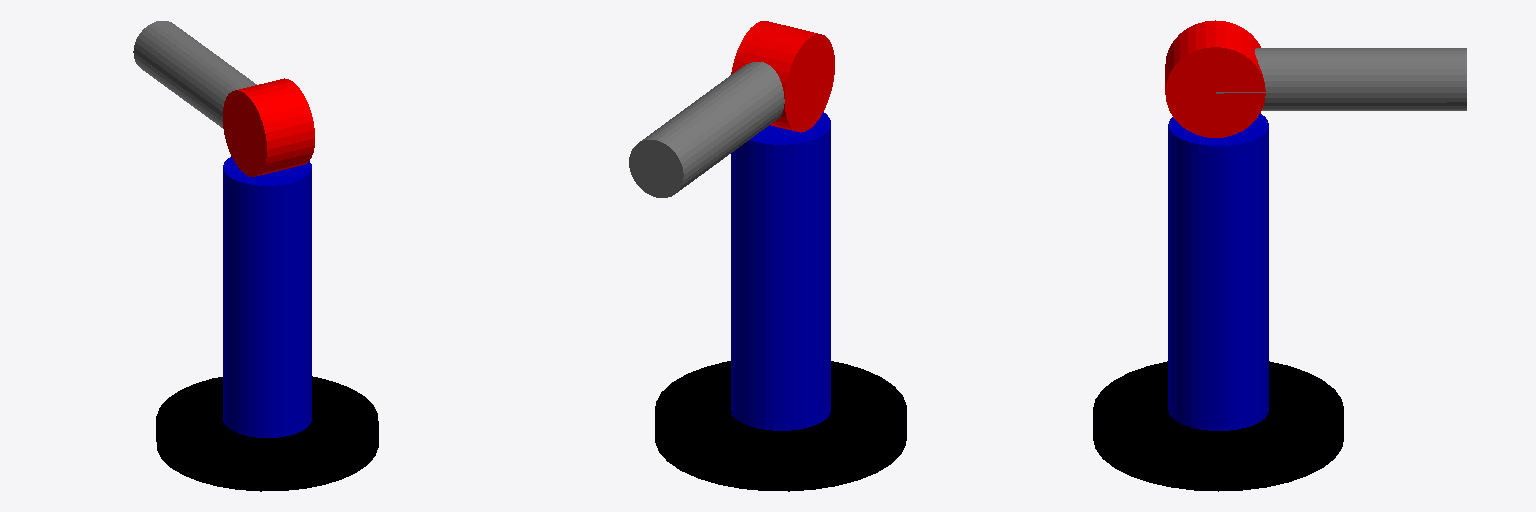
The robot description file, URDF, robot "big_bazu":
<?xml version="1.0"?>
<robot name="big_bazu">
    <link name="world"/>

    <link name="base_link">
        <visual>
            <geometry>
                <cylinder length="0.05" radius="0.2"/>
            </geometry>
            <material name="Black">
                <color rgba="0 0 0 1"/>
            </material>
            <origin rpy="0 0 0" xyz="0 0 0.025"/>
        </visual>

        <collision>
            <geometry>
                <cylinder length="0.05" radius="0.2"/>
            </geometry>
            <origin rpy="0 0 0" xyz="0 0 0.025"/>
        </collision>

        <inertial>
            <origin rpy="0 0 0" xyz="0 0 0.025"/>
            <mass value="5.0"/>
            <inertia ixx="0.051" ixy="0.0" ixz="0.0" iyy="0.051" iyz="0.0" izz="0.05"/>
        </inertial>
    </link>
    
    <joint name="fixed" type="fixed">
        <parent link="world"/>
        <child link="base_link"/>
        <dynamics damping="10" friction="1.0"/>
    </joint>
    
    <link name="link_1">
        <visual>
            <geometry>
                <cylinder length="0.5" radius="0.08"/>
            </geometry>
            <material name="blue">
                <color rgba="0 0 0.8 1"/>
            </material>
            <origin rpy="0 0 0" xyz="0 0 0.25"/>
        </visual>

        <collision>
            <geometry>
                <cylinder length="0.5" radius="0.08"/>
            </geometry>
            <origin rpy="0 0 0" xyz="0 0 0.25"/>
        </collision>
        
        <inertial>
            <origin rpy="0 0 0" xyz="0 0 0.25"/>
            <mass value="5.0"/>
            <inertia ixx="0.112" ixy="0.0" ixz="0.0" iyy="0.112" iyz="0.0" izz="0.008"/>
        </inertial>

    </link>
  
    <joint name="joint_1" type="continuous">
        <axis xyz="0 0 1"/>
        <parent link="base_link"/>
        <child link="link_1"/>
        <origin rpy="0 0 0" xyz="0.0 0.0 0.05"/>
        <dynamics damping="10" friction="1.0"/>
    </joint>

    <link name="link_2">
        <inertial>
            <origin rpy="0 0 0" xyz="0 0 0.2"/>
            <mass value="2.0"/>
            <inertia ixx="0.0004" ixy="0.0" ixz="0.0" iyy="0.0004" iyz="0.0" izz="0.0006"/>
        </inertial>

        <visual>
            <geometry>
            <cylinder length="0.1" radius="0.08"/>
            </geometry>
            <material name="Red">
                <color rgba="1 0 0 1"/>
            </material>
        </visual>

        <collision>
            <geometry>
                <cylinder length="0.1" radius="0.08"/>
            </geometry>
        </collision>

    </link>

    <joint name="joint_2" type="revolute">
        <axis xyz="0 0 1"/>
        <parent link="link_1"/>
        <child link="link_2"/>
        <origin rpy="0 1.5708 0" xyz="0.0 -0.005 0.58"/>
        <limit lower="-0.25" upper="3.34" effort="10" velocity="0.5"/>
        <dynamics damping="10" friction="1.0"/>
    </joint>
    
    <link name="link_3">
        <inertial>
            <origin rpy="0 0 0" xyz="0 0 0.2"/>
            <mass value="1.0"/>
            <inertia ixx="0.013" ixy="0.0" ixz="0.0" iyy="0.13" iyz="0.0" izz="0.00025"/>
        </inertial>
        
        <visual>
            <geometry>
            <cylinder length="0.4" radius="0.05"/>
            </geometry>
            <material name="blue">
                <color rgba="0.5 0.5 0.5 1"/>
            </material>
            </visual>

        <collision>
            <geometry>
                <cylinder length="0.4" radius="0.05"/>
            </geometry>
        </collision>
    </link>

    <joint name="joint_3" type="fixed">
        <parent link="link_2"/>
        <child link="link_3"/>
        <origin rpy="1.57 0 0" xyz="0.0 0.2 0 "/>
        <dynamics damping="10" friction="1.0"/>
    </joint>
</robot>

--- Render facts (derived) ---
3 views of the same robot in one strip: view 1: azimuth 30°, elevation 25°; view 2: azimuth 150°, elevation 25°; view 3: azimuth 270°, elevation 25° (orthographic).
Robot: big_bazu — 5 links, 4 joints (1 revolute, 1 continuous, 2 fixed); root link world; default pose: every joint at zero.
Links seen in each view (by area): view 1: link_1, base_link, link_2, link_3; view 2: link_1, base_link, link_3, link_2; view 3: link_1, base_link, link_3, link_2.
Link boxes in pixels (box(x1,y1,x2,y2)): link_1: box(223, 156, 311, 437); base_link: box(156, 376, 378, 491); link_2: box(223, 78, 314, 176); link_3: box(133, 21, 256, 127); link_1: box(731, 112, 830, 430); base_link: box(655, 361, 906, 491); link_3: box(629, 62, 784, 197); link_2: box(731, 21, 834, 132); link_1: box(1168, 113, 1268, 430); base_link: box(1093, 361, 1343, 491); link_3: box(1216, 48, 1466, 110); link_2: box(1165, 20, 1265, 137).
Size in the robot's own frame: 0.4 by 0.595 by 0.71 metres.
Geometry: primitives only (box / cylinder / sphere), no mesh files.